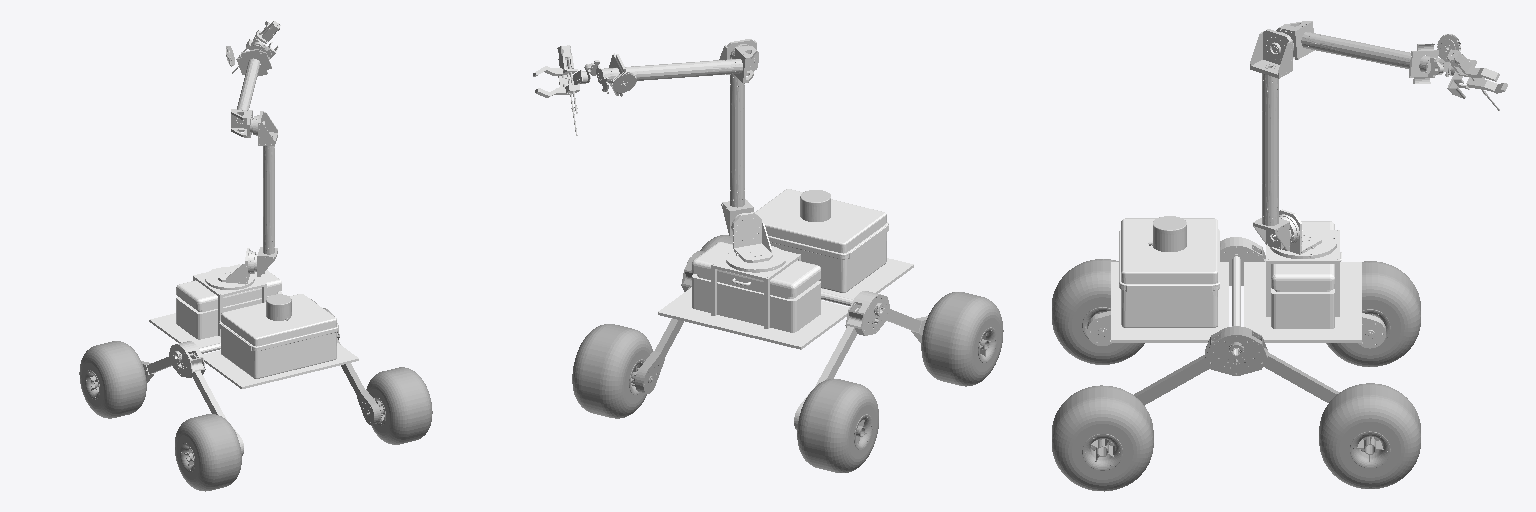
robot.urdf — tros_sldworks_pkg:
<?xml version="1.0"?>
<robot
  name="tros_sldworks_pkg">
  <link name="base_link"></link>
  <link
    name="chassis_link">
    <inertial>
      <origin
        xyz="-0.0011751142480203 0.0560628119659261 0.121693875098375"
        rpy="0 0 0" />
      <mass
        value="27.9685222137019" />
      <inertia
        ixx="0.236565711412707"
        ixy="1.88562774974532E-09"
        ixz="7.73783512994114E-12"
        iyy="0.708374298168133"
        iyz="4.15129518897971E-05"
        izz="0.547317579384183" />
    </inertial>
    <visual>
      <origin
        xyz="0 0 0"
        rpy="0 0 0" />
      <geometry>
        <mesh
          filename="package://tros_sldworks_pkg/meshes/chassis_link.STL" />
      </geometry>
      <material
        name="">
        <color
          rgba="1 1 1 1" />
      </material>
    </visual>
    <collision>
      <origin
        xyz="0 0 0"
        rpy="0 0 0" />
      <geometry>
        <mesh
          filename="package://tros_sldworks_pkg/meshes/chassis_link.STL" />
      </geometry>
    </collision>
  </link>
  <joint name="chassis_joint" type="fixed">
    <parent link="base_link"/>
    <child link="chassis_link"/>
    <origin xyz="0.0 0.0 0.0" rpy="1.5708 0 0"/>
  </joint>
  <link
    name="left_rotatable_link">
    <inertial>
      <origin
        xyz="-4.65621408574091E-05 -0.0896580860525273 -0.0170360588140277"
        rpy="0 0 0" />
      <mass
        value="3.40229054558915" />
      <inertia
        ixx="0.00526654975969157"
        ixy="7.20414424233111E-07"
        ixz="3.99490846495806E-05"
        iyy="0.0108012749496101"
        iyz="1.51609031051643E-05"
        izz="0.0149420282207255" />
    </inertial>
    <visual>
      <origin
        xyz="0 0 0"
        rpy="0 0 0" />
      <geometry>
        <mesh
          filename="package://tros_sldworks_pkg/meshes/left_rotatable_link.STL" />
      </geometry>
      <material
        name="">
        <color
          rgba="0.894117647058823 0.894117647058823 0.894117647058823 1" />
      </material>
    </visual>
    <collision>
      <origin
        xyz="0 0 0"
        rpy="0 0 0" />
      <geometry>
        <mesh
          filename="package://tros_sldworks_pkg/meshes/left_rotatable_link.STL" />
      </geometry>
    </collision>
  </link>
  <joint
    name="left_rotatable_joint"
    type="revolute">
    <origin
      xyz="-0.34671 0.015 0.19902"
      rpy="0 -1.5708 0" />
    <parent
      link="chassis_link" />
    <child
      link="left_rotatable_link" />
    <axis
      xyz="0 0 -1" />
    <limit
      lower="-1.57"
      upper="1.57"
      effort="0"
      velocity="0" />
    <dynamics
      damping="0.4"
      friction="1" />
  </joint>
  <link
    name="front_left_link">
    <inertial>
      <origin
        xyz="-2.1097E-09 -8.2224E-10 0.0020847"
        rpy="0 0 0" />
      <mass
        value="12.209" />
      <inertia
        ixx="0.096798"
        ixy="-1.8815E-11"
        ixz="7.2747E-10"
        iyy="0.096798"
        iyz="-3.6615E-10"
        izz="0.13399" />
    </inertial>
    <visual>
      <origin
        xyz="0 0 0"
        rpy="0 0 0" />
      <geometry>
        <mesh
          filename="package://tros_sldworks_pkg/meshes/front_left_link.STL" />
      </geometry>
      <material
        name="">
        <color
          rgba="0.75294 0.75294 0.75294 1" />
      </material>
    </visual>
    <collision>
      <origin
        xyz="0 0 0"
        rpy="0 0 0" />
      <geometry>
        <mesh
          filename="package://tros_sldworks_pkg/meshes/front_left_link.STL" />
      </geometry>
    </collision>
  </link>
  <joint
    name="front_left_joint"
    type="continuous">
    <origin
      xyz="-0.39913 -0.24818 0.084652"
      rpy="-3.1416 0 -3.1416" />
    <parent
      link="left_rotatable_link" />
    <child
      link="front_left_link" />
    <axis
      xyz="0 0 -1" />
    <dynamics
      damping="0.1"
      friction="0.1" />
  </joint>
  <link
    name="rear_left_link">
    <inertial>
      <origin
        xyz="1.97877714214201E-10 2.25839369427661E-09 0.0020846583729538"
        rpy="0 0 0" />
      <mass
        value="12.2088239518694" />
      <inertia
        ixx="0.0967979128428435"
        ixy="1.04096732934944E-11"
        ixz="-6.4974405637478E-10"
        iyy="0.0967979128117142"
        iyz="-4.9146835490954E-10"
        izz="0.133986761609432" />
    </inertial>
    <visual>
      <origin
        xyz="0 0 0"
        rpy="0 0 0" />
      <geometry>
        <mesh
          filename="package://tros_sldworks_pkg/meshes/rear_left_link.STL" />
      </geometry>
      <material
        name="">
        <color
          rgba="0.752941176470588 0.752941176470588 0.752941176470588 1" />
      </material>
    </visual>
    <collision>
      <origin
        xyz="0 0 0"
        rpy="0 0 0" />
      <geometry>
        <mesh
          filename="package://tros_sldworks_pkg/meshes/rear_left_link.STL" />
      </geometry>
    </collision>
  </link>
  <joint
    name="rear_left_joint"
    type="continuous">
    <origin
      xyz="0.399129309591522 -0.24818499999999 0.0999850066700003"
      rpy="3.14159265358979 0 3.14159265358979" />
    <parent
      link="left_rotatable_link" />
    <child
      link="rear_left_link" />
    <axis
      xyz="0 0 -1" />
    <dynamics
      damping="0.1"
      friction="0.1" />
  </joint>
  <link
    name="right_rotatable_link">
    <inertial>
      <origin
        xyz="4.84359169552473E-05 -0.0896580864233081 -0.0170360596762897"
        rpy="0 0 0" />
      <mass
        value="3.40229053035036" />
      <inertia
        ixx="0.00526654974805328"
        ixy="6.3891523677142E-06"
        ixz="-4.02387535737794E-05"
        iyy="0.0108012749348617"
        iyz="1.51608973705461E-05"
        izz="0.0149420282092077" />
    </inertial>
    <visual>
      <origin
        xyz="0 0 0"
        rpy="0 0 0" />
      <geometry>
        <mesh
          filename="package://tros_sldworks_pkg/meshes/right_rotatable_link.STL" />
      </geometry>
      <material
        name="">
        <color
          rgba="0.752941176470588 0.752941176470588 0.752941176470588 1" />
      </material>
    </visual>
    <collision>
      <origin
        xyz="0 0 0"
        rpy="0 0 0" />
      <geometry>
        <mesh
          filename="package://tros_sldworks_pkg/meshes/right_rotatable_link.STL" />
      </geometry>
    </collision>
  </link>
  <joint
    name="right_rotatable_joint"
    type="revolute">
    <origin
      xyz="0.34671 0.015 0.19902"
      rpy="0 1.5708 0" />
    <parent
      link="chassis_link" />
    <child
      link="right_rotatable_link" />
    <axis
      xyz="0 0 -1" />
    <limit
      lower="-1.57"
      upper="1.57"
      effort="0"
      velocity="0" />
    <dynamics
      damping="0.4"
      friction="1" />
  </joint>
  <link
    name="front_right_link">
    <inertial>
      <origin
        xyz="1.97876381946571E-10 2.25839480449963E-09 0.0020846583729528"
        rpy="0 0 0" />
      <mass
        value="12.2088239518692" />
      <inertia
        ixx="0.0967979128428433"
        ixy="1.04097015147691E-11"
        ixz="-6.49744038656979E-10"
        iyy="0.096797912811714"
        iyz="-4.91468374614801E-10"
        izz="0.133986761609432" />
    </inertial>
    <visual>
      <origin
        xyz="0 0 0"
        rpy="0 0 0" />
      <geometry>
        <mesh
          filename="package://tros_sldworks_pkg/meshes/front_right_link.STL" />
      </geometry>
      <material
        name="">
        <color
          rgba="0.752941176470588 0.752941176470588 0.752941176470588 1" />
      </material>
    </visual>
    <collision>
      <origin
        xyz="0 0 0"
        rpy="0 0 0" />
      <geometry>
        <mesh
          filename="package://tros_sldworks_pkg/meshes/front_right_link.STL" />
      </geometry>
    </collision>
  </link>
  <joint
    name="front_right_joint"
    type="continuous">
    <origin
      xyz="0.399129309591521 -0.248184999999992 0.0846516733299993"
      rpy="-3.14159265358979 0 -3.14159265358979" />
    <parent
      link="right_rotatable_link" />
    <child
      link="front_right_link" />
    <axis
      xyz="0 0 -1" />
    <dynamics
      damping="0.1"
      friction="0.1" />
  </joint>
  <link
    name="rear_right_link">
    <inertial>
      <origin
        xyz="-2.11024353546918E-09 -8.20771006715404E-10 0.00208465839733241"
        rpy="0 0 0" />
      <mass
        value="12.2088239428695" />
      <inertia
        ixx="0.0967979128394559"
        ixy="-1.84526082884831E-11"
        ixz="7.27562933506311E-10"
        iyy="0.0967979128417125"
        iyz="-3.66412510467765E-10"
        izz="0.133986761609406" />
    </inertial>
    <visual>
      <origin
        xyz="0 0 0"
        rpy="0 0 0" />
      <geometry>
        <mesh
          filename="package://tros_sldworks_pkg/meshes/rear_right_link.STL" />
      </geometry>
      <material
        name="">
        <color
          rgba="0.752941176470588 0.752941176470588 0.752941176470588 1" />
      </material>
    </visual>
    <collision>
      <origin
        xyz="0 0 0"
        rpy="0 0 0" />
      <geometry>
        <mesh
          filename="package://tros_sldworks_pkg/meshes/rear_right_link.STL" />
      </geometry>
    </collision>
  </link>
  <joint
    name="rear_right_joint"
    type="continuous">
    <origin
      xyz="-0.399129309591514 -0.248185000000002 0.0999850066699997"
      rpy="-3.14159265358979 0 -3.14159265358979" />
    <parent
      link="right_rotatable_link" />
    <child
      link="rear_right_link" />
    <axis
      xyz="0 0 -1" />
    <dynamics
      damping="0.1"
      friction="0.1" />
  </joint>
  <link
    name="lidar_link">
    <inertial>
      <origin
        xyz="3.41879387799615E-06 0.036296677126521 0.000102124851530938"
        rpy="0 0 0" />
      <mass
        value="0.605610172266937" />
      <inertia
        ixx="0.000670907963914795"
        ixy="5.22872596799569E-08"
        ixz="-2.54216844767413E-07"
        iyy="0.000804073841792418"
        iyz="1.81336994348358E-06"
        izz="0.000667057423314157" />
    </inertial>
    <visual>
      <origin
        xyz="0 0 0"
        rpy="0 0 0" />
      <geometry>
        <mesh
          filename="package://tros_sldworks_pkg/meshes/lidar_link.STL" />
      </geometry>
      <material
        name="">
        <color
          rgba="0.894117647058823 0.894117647058823 0.894117647058823 1" />
      </material>
    </visual>
    <collision>
      <origin
        xyz="0 0 0"
        rpy="0 0 0" />
      <geometry>
        <mesh
          filename="package://tros_sldworks_pkg/meshes/lidar_link.STL" />
      </geometry>
    </collision>
  </link>
  <joint
    name="lidar_joint"
    type="continuous">
    <origin
      xyz="0 0.195 0.39805"
      rpy="0 0 0" />
    <parent
      link="chassis_link" />
    <child
      link="lidar_link" />
    <axis
      xyz="0 1 0" />
  </joint>
  <link
    name="arm_turret_link">
    <inertial>
      <origin
        xyz="0 0 0"
        rpy="0 0 0" />
      <mass
        value="0" />
      <inertia
        ixx="0"
        ixy="0"
        ixz="0"
        iyy="0"
        iyz="0"
        izz="0" />
    </inertial>
    <visual>
      <origin
        xyz="0 0 0"
        rpy="0 0 0" />
      <geometry>
        <mesh
          filename="package://tros_sldworks_pkg/meshes/arm_turret_link.STL" />
      </geometry>
      <material
        name="">
        <color
          rgba="1 1 1 1" />
      </material>
    </visual>
    <collision>
      <origin
        xyz="0 0 0"
        rpy="0 0 0" />
      <geometry>
        <mesh
          filename="package://tros_sldworks_pkg/meshes/arm_turret_link.STL" />
      </geometry>
    </collision>
  </link>
  <joint
    name="arm_turret_joint"
    type="continuous">
    <origin
      xyz="0 0.19 0"
      rpy="1.5708 0 -3.1416" />
    <parent
      link="chassis_link" />
    <child
      link="arm_turret_link" />
    <axis
      xyz="0 0 1" />
    <dynamics
      damping="0.1"
      friction="0.1" />
  </joint>
  <link
    name="arm_base_turret_link">
    <inertial>
      <origin
        xyz="1.71134175384058E-05 0.429562275870776 0.0318370850629819"
        rpy="0 0 0" />
      <mass
        value="1.54125416810131" />
      <inertia
        ixx="0.00558057441791725"
        ixy="-1.8036932744494E-09"
        ixz="-1.38890288376228E-10"
        iyy="0.00100129520441832"
        iyz="1.62316065000079E-05"
        izz="0.00594747554362716" />
    </inertial>
    <visual>
      <origin
        xyz="0 0 0"
        rpy="0 0 0" />
      <geometry>
        <mesh
          filename="package://tros_sldworks_pkg/meshes/arm_base_turret_link.STL" />
      </geometry>
      <material
        name="">
        <color
          rgba="0.894117647058823 0.894117647058823 0.894117647058823 1" />
      </material>
    </visual>
    <collision>
      <origin
        xyz="0 0 0"
        rpy="0 0 0" />
      <geometry>
        <mesh
          filename="package://tros_sldworks_pkg/meshes/arm_base_turret_link.STL" />
      </geometry>
    </collision>
  </link>
  <joint
    name="arm_base_turret_joint"
    type="revolute">
    <origin
      xyz="-0.094203 0.07189 0.08635"
      rpy="1.5708 0 -2.2227" />
    <parent
      link="arm_turret_link" />
    <child
      link="arm_base_turret_link" />
    <axis
      xyz="0 0 1" />
    <limit
      lower="-3.14"
      upper="3.14"
      effort="0"
      velocity="0" />
    <dynamics
      damping="0.1"
      friction="0.1" />
  </joint>
  <link
    name="arm_mid_link">
    <inertial>
      <origin
        xyz="0.2499114714616 -0.026378117301245 0.0520756651329131"
        rpy="0 0 0" />
      <mass
        value="1.17448790322858" />
      <inertia
        ixx="0.000940955799401853"
        ixy="0.000472021659558586"
        ixz="-2.01890106215141E-05"
        iyy="0.00537920426456279"
        iyz="2.96208038374995E-05"
        izz="0.00556849159306167" />
    </inertial>
    <visual>
      <origin
        xyz="0 0 0"
        rpy="0 0 0" />
      <geometry>
        <mesh
          filename="package://tros_sldworks_pkg/meshes/arm_mid_link.STL" />
      </geometry>
      <material
        name="">
        <color
          rgba="0.894117647058823 0.894117647058823 0.894117647058823 1" />
      </material>
    </visual>
    <collision>
      <origin
        xyz="0 0 0"
        rpy="0 0 0" />
      <geometry>
        <mesh
          filename="package://tros_sldworks_pkg/meshes/arm_mid_link.STL" />
      </geometry>
    </collision>
  </link>
  <joint
    name="arm_mid_joint"
    type="revolute">
    <origin
      xyz="0 0.6152 -0.020262"
      rpy="-3.1416 0 0" />
    <parent
      link="arm_base_turret_link" />
    <child
      link="arm_mid_link" />
    <axis
      xyz="0 0 -1" />
    <limit
      lower="-3.14"
      upper="3.14"
      effort="0"
      velocity="0" />
    <dynamics
      damping="0.1"
      friction="0.1" />
  </joint>
  <link
    name="arm_end_effector_turn_link">
    <inertial>
      <origin
        xyz="0.00393657718391949 0.00201749428946152 -0.00354471898145681"
        rpy="0 0 0" />
      <mass
        value="0.0545581570050041" />
      <inertia
        ixx="7.60999592002071E-06"
        ixy="8.44659515197221E-07"
        ixz="2.75809388722543E-09"
        iyy="6.51960627220242E-06"
        iyz="-1.10445560648114E-09"
        izz="8.22074394345696E-06" />
    </inertial>
    <visual>
      <origin
        xyz="0 0 0"
        rpy="0 0 0" />
      <geometry>
        <mesh
          filename="package://tros_sldworks_pkg/meshes/arm_end_effector_turn_link.STL" />
      </geometry>
      <material
        name="">
        <color
          rgba="0.894117647058823 0.894117647058823 0.894117647058823 1" />
      </material>
    </visual>
    <collision>
      <origin
        xyz="0 0 0"
        rpy="0 0 0" />
      <geometry>
        <mesh
          filename="package://tros_sldworks_pkg/meshes/arm_end_effector_turn_link.STL" />
      </geometry>
    </collision>
  </link>
  <joint
    name="arm_end_effector_turn_joint"
    type="revolute">
    <origin
      xyz="0.5747 -0.062022 0.05667"
      rpy="2.8595 0.14022 0.34467" />
    <parent
      link="arm_mid_link" />
    <child
      link="arm_end_effector_turn_link" />
    <axis
      xyz="0 0 -1" />
    <limit
      lower="-3.14"
      upper="3.14"
      effort="0"
      velocity="0" />
    <dynamics
      damping="0.4"
      friction="0.2" />
  </joint>
  <link
    name="arm_end_effector_spin_link">
    <inertial>
      <origin
        xyz="0.01991 -0.0052147 -0.065237"
        rpy="0 0 0" />
      <mass
        value="0.33685" />
      <inertia
        ixx="0.00031797"
        ixy="-1.2778E-05"
        ixz="3.2167E-05"
        iyy="0.00031235"
        iyz="-2.109E-05"
        izz="0.00016579" />
    </inertial>
    <visual>
      <origin
        xyz="0 0 0"
        rpy="0 0 0" />
      <geometry>
        <mesh
          filename="package://tros_sldworks_pkg/meshes/arm_end_effector_spin_link.STL" />
      </geometry>
      <material
        name="">
        <color
          rgba="0.89412 0.89412 0.89412 1" />
      </material>
    </visual>
    <collision>
      <origin
        xyz="0 0 0"
        rpy="0 0 0" />
      <geometry>
        <mesh
          filename="package://tros_sldworks_pkg/meshes/arm_end_effector_spin_link.STL" />
      </geometry>
    </collision>
  </link>
  <joint
    name="arm_end_effector_spin_joint"
    type="continuous">
    <origin
      xyz="0.02119 0.011271 -0.0037291"
      rpy="1.5708 -1.2555 -1.0709" />
    <parent
      link="arm_end_effector_turn_link" />
    <child
      link="arm_end_effector_spin_link" />
    <axis
      xyz="0 0 -1" />
  </joint>
</robot>

--- Render facts (derived) ---
Views: 3 orthographic renders of the robot side by side, from view 1: azimuth 30°, elevation 25°; view 2: azimuth 150°, elevation 25°; view 3: azimuth 270°, elevation 25°.
Robot: tros_sldworks_pkg — 14 links, 13 joints (5 revolute, 7 continuous, 1 fixed); root link base_link; default pose: all joints at 0.
Visible links, largest first — view 1: chassis_link, front_left_link, rear_left_link, rear_right_link, arm_base_turret_link, arm_mid_link, left_rotatable_link, arm_turret_link, right_rotatable_link, lidar_link, arm_end_effector_spin_link; view 2: chassis_link, rear_left_link, front_left_link, front_right_link, arm_mid_link, left_rotatable_link, arm_base_turret_link, arm_turret_link, right_rotatable_link, arm_end_effector_spin_link, lidar_link; view 3: chassis_link, front_right_link, rear_right_link, front_left_link, rear_left_link, arm_base_turret_link, right_rotatable_link, arm_mid_link, left_rotatable_link, arm_turret_link, arm_end_effector_spin_link, lidar_link.
Boxes of the visible links, x1,y1,x2,y2 form: chassis_link: (149,264,358,388); front_left_link: (79,341,146,418); rear_left_link: (175,414,241,491); rear_right_link: (366,367,432,444); arm_base_turret_link: (250,111,277,276); arm_mid_link: (226,45,271,137); left_rotatable_link: (141,341,243,455); arm_turret_link: (205,248,257,289); right_rotatable_link: (323,308,380,424); lidar_link: (266,294,291,320); arm_end_effector_spin_link: (232,21,280,73); chassis_link: (658,189,913,349); rear_left_link: (921,292,1003,386); front_left_link: (797,379,878,472); front_right_link: (572,324,652,418); arm_mid_link: (580,46,758,96); left_rotatable_link: (794,291,927,429); arm_base_turret_link: (719,39,756,236); arm_turret_link: (726,212,785,272); right_rotatable_link: (635,251,704,393); arm_end_effector_spin_link: (533,45,587,135); lidar_link: (800,190,830,221); chassis_link: (1111,218,1361,355); front_right_link: (1319,383,1420,488); rear_right_link: (1052,385,1153,491); front_left_link: (1326,261,1420,366); rear_left_link: (1052,259,1144,364); arm_base_turret_link: (1250,29,1293,250); right_rotatable_link: (1134,326,1339,405); arm_mid_link: (1276,21,1460,83); left_rotatable_link: (1087,237,1385,348); arm_turret_link: (1269,209,1336,258); arm_end_effector_spin_link: (1446,49,1507,110); lidar_link: (1148,216,1186,251).
Bounding box of the posed robot: 1.09 × 1.36 × 1.44 m (x, y, z).
Meshes: 13 distinct files referenced, 12 mesh visuals loaded (12 binary STL); not drawn: 1 (reference not matched to a file when rendering).
